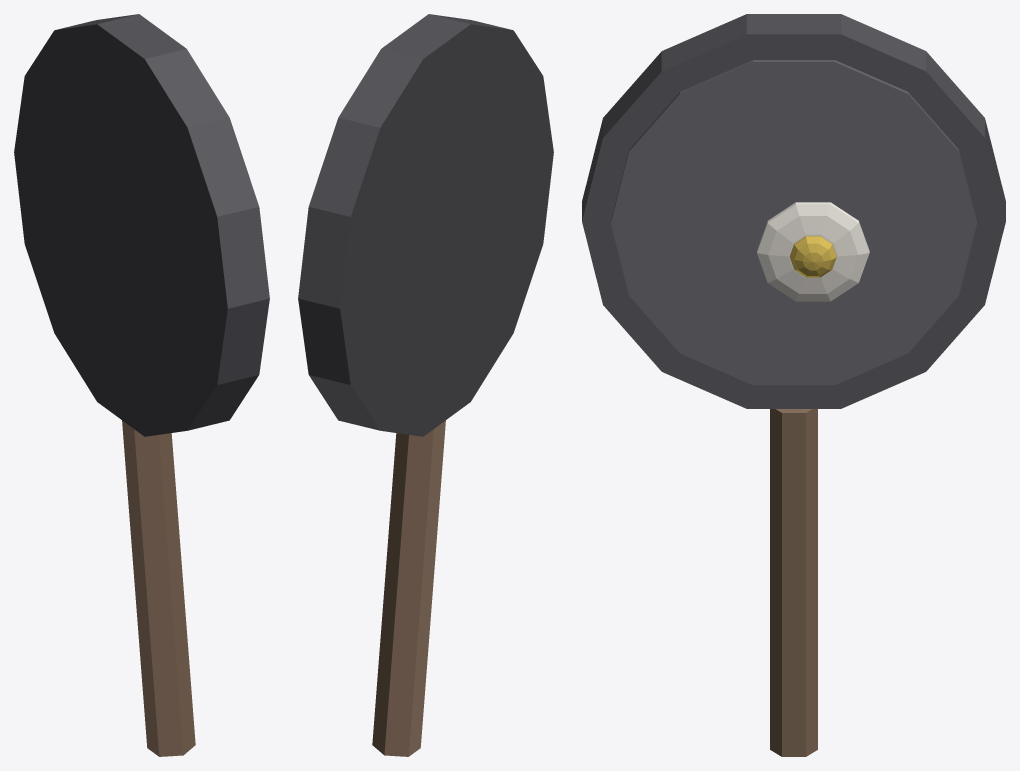
The model's file is FryingPan.fbx.
3 views of the same model, side by side, from view 1: azimuth 30°, elevation 25°; view 2: azimuth 150°, elevation 25°; view 3: azimuth 270°, elevation 25° (orthographic).
Parts seen in each view (by area): view 1: Prop_FryingPan; view 2: Prop_FryingPan; view 3: Prop_FryingPan.
Boxes of the visible parts, bbox=[...] form: Prop_FryingPan: bbox=[14, 14, 269, 756]; Prop_FryingPan: bbox=[298, 14, 553, 756]; Prop_FryingPan: bbox=[582, 14, 1005, 756].
Bounding box in the file's own units: 0.085 × 0.8162 × 0.44.
